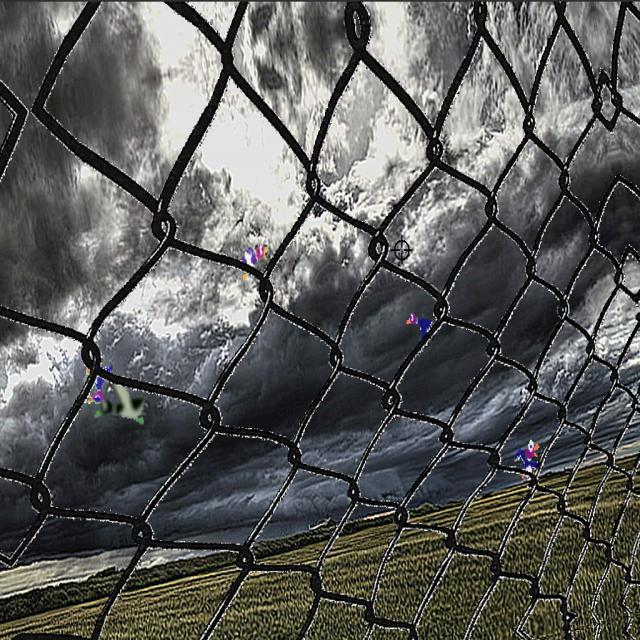duck: (89, 385, 153, 428), (236, 236, 270, 288), (401, 305, 434, 342)
falling_duck: (506, 431, 546, 482), (83, 355, 117, 406)
